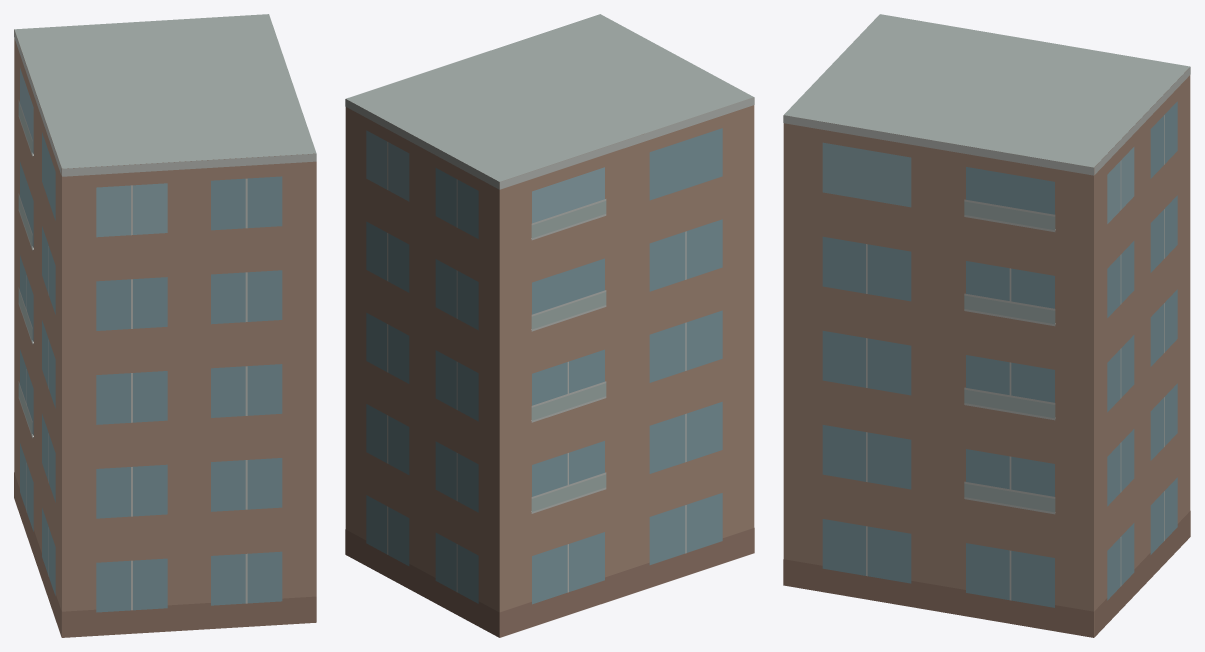
The model's file is survey-upis-32678514.glb.
The picture shows the model from 3 angles, left to right: view 1: azimuth 30°, elevation 25°; view 2: azimuth 150°, elevation 25°; view 3: azimuth 270°, elevation 25°; orthographic projection. The views are drawn at different scales.
Visible parts, largest first — view 1: survey-upis-32678514.tmp; view 2: survey-upis-32678514.tmp; view 3: survey-upis-32678514.tmp.
Part boxes in pixels (box(x1,y1,x2,y2)): survey-upis-32678514.tmp: box(14, 14, 316, 637); survey-upis-32678514.tmp: box(345, 14, 754, 637); survey-upis-32678514.tmp: box(783, 14, 1190, 637).
Size of the model in its own units: 9.99 by 14.25 by 11.19.
